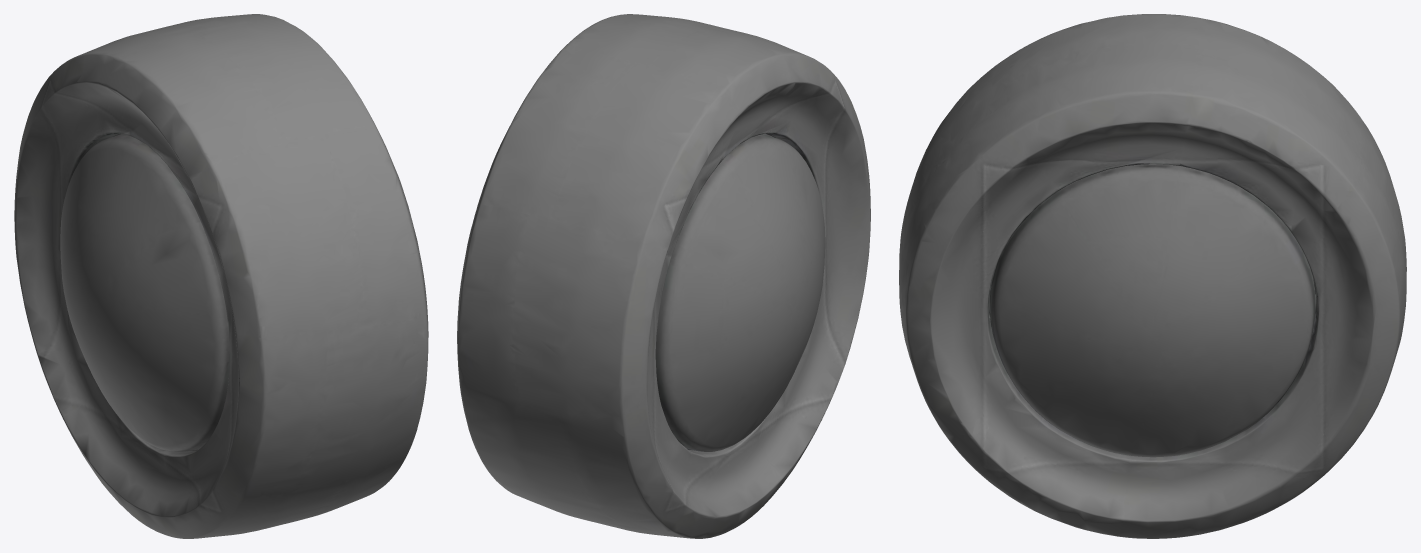
File: btn-promptEdit.glb
The picture shows the model from 3 angles, left to right: view 1: azimuth 30°, elevation 25°; view 2: azimuth 150°, elevation 25°; view 3: azimuth 270°, elevation 25°; orthographic projection.
Parts seen in each view (by area): view 1: tripo_node_0b067ccd-58e0-4dad-9490-580d0c8f2178; view 2: tripo_node_0b067ccd-58e0-4dad-9490-580d0c8f2178; view 3: tripo_node_0b067ccd-58e0-4dad-9490-580d0c8f2178.
Part boxes in pixels (bbox=[...]): tripo_node_0b067ccd-58e0-4dad-9490-580d0c8f2178: bbox=[14, 14, 428, 538]; tripo_node_0b067ccd-58e0-4dad-9490-580d0c8f2178: bbox=[457, 14, 870, 538]; tripo_node_0b067ccd-58e0-4dad-9490-580d0c8f2178: bbox=[899, 14, 1406, 538].
Bounding box in the file's own units: 0.5833 × 0.9999 × 1.
Materials: 1 (1 with a texture image).
